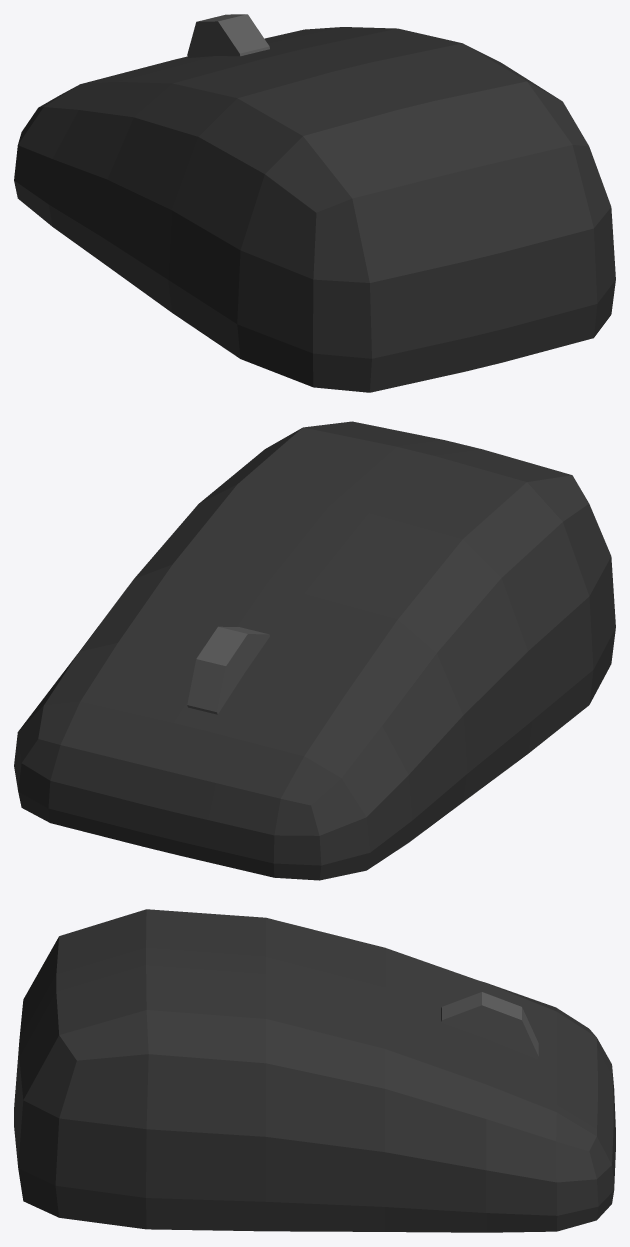
The model's file is SM_Props_PC_06.fbx.
3 renders of one model, top to bottom at view 1: azimuth 30°, elevation 25°; view 2: azimuth 150°, elevation 25°; view 3: azimuth 270°, elevation 25°, orthographic. The views are drawn at different scales.
Parts seen in each view (by area): view 1: SM_Props_PC_06; view 2: SM_Props_PC_06; view 3: SM_Props_PC_06.
Boxes of the visible parts, box(x1,y1,x2,y2) form: SM_Props_PC_06: box(14, 14, 615, 392); SM_Props_PC_06: box(14, 421, 615, 880); SM_Props_PC_06: box(14, 909, 615, 1232).
Bounding box in the file's own units: 0.0494 × 0.0289 × 0.0768.
